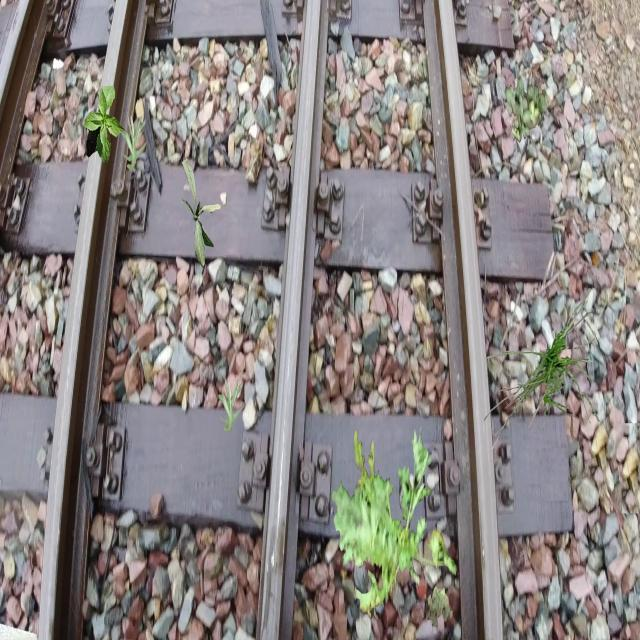Plant: (332, 425, 457, 621), (483, 289, 602, 452), (181, 158, 221, 268), (84, 86, 126, 166), (504, 76, 548, 142), (121, 114, 148, 170), (218, 376, 244, 432), (427, 585, 453, 628)
